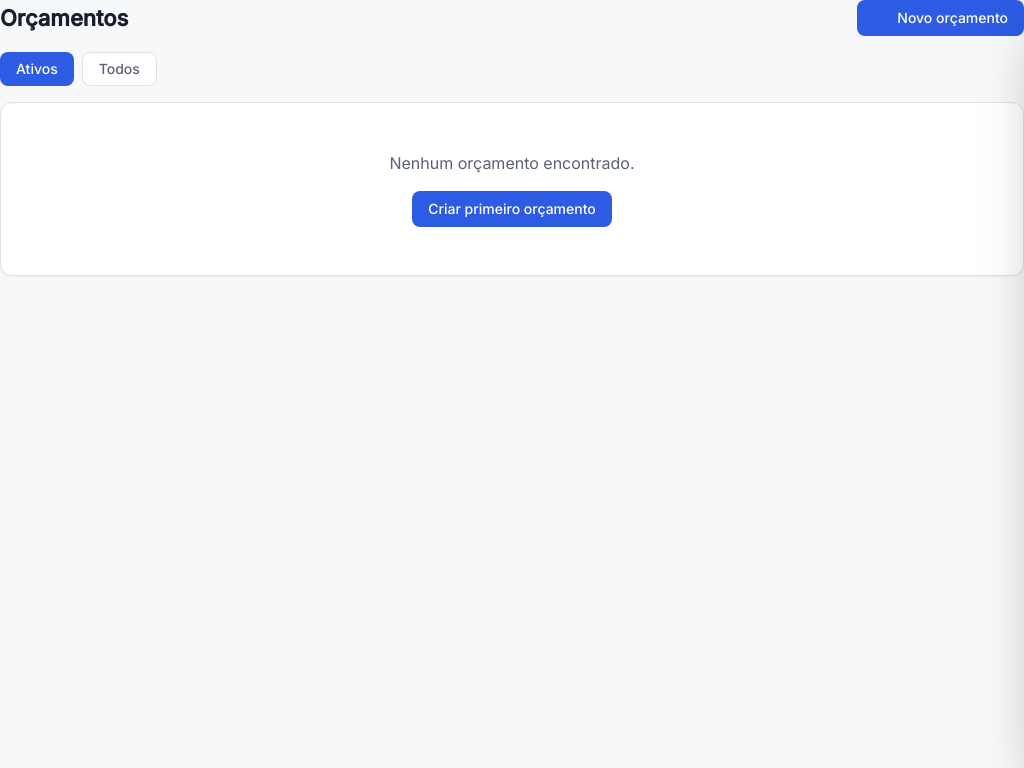
Test: Orcamentos › novo orçamento › sem categorias, pede uma categoria
Click the button "Novo orçamento".
click(941, 18)  # box [857,0,1023,36]
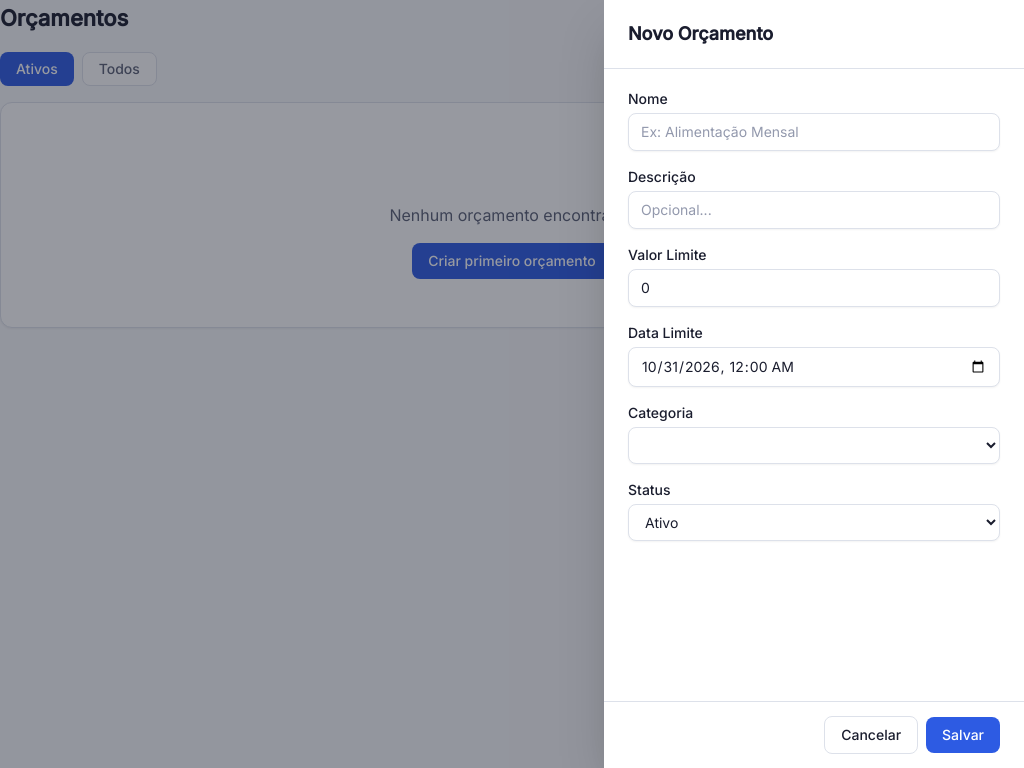
Type "Casa" into the field labelled "Nome".
click(814, 132); type("Casa")  # box [628,113,1000,151]
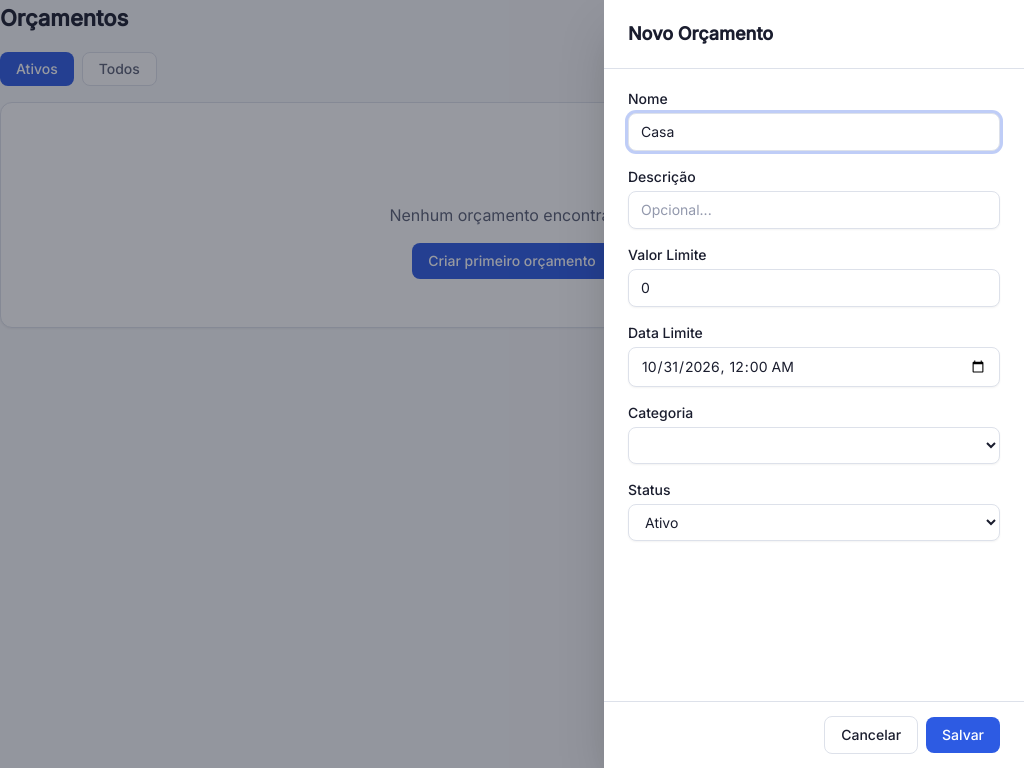
Click the button "Salvar".
click(963, 735)  # box [926,717,1000,753]
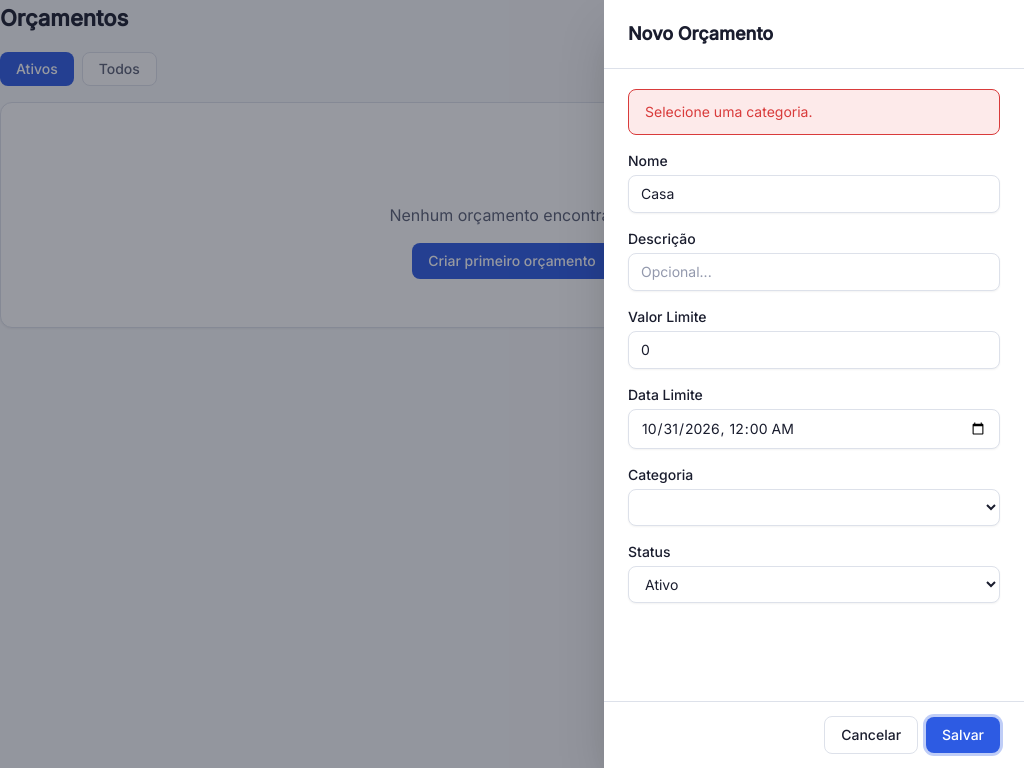
Result: the text "Selecione uma categoria." is shown at [628,89,1000,135]
